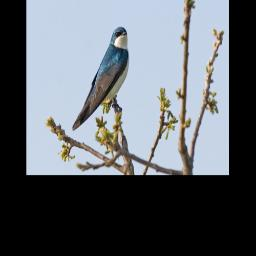Swallow: (69, 22, 132, 132)
